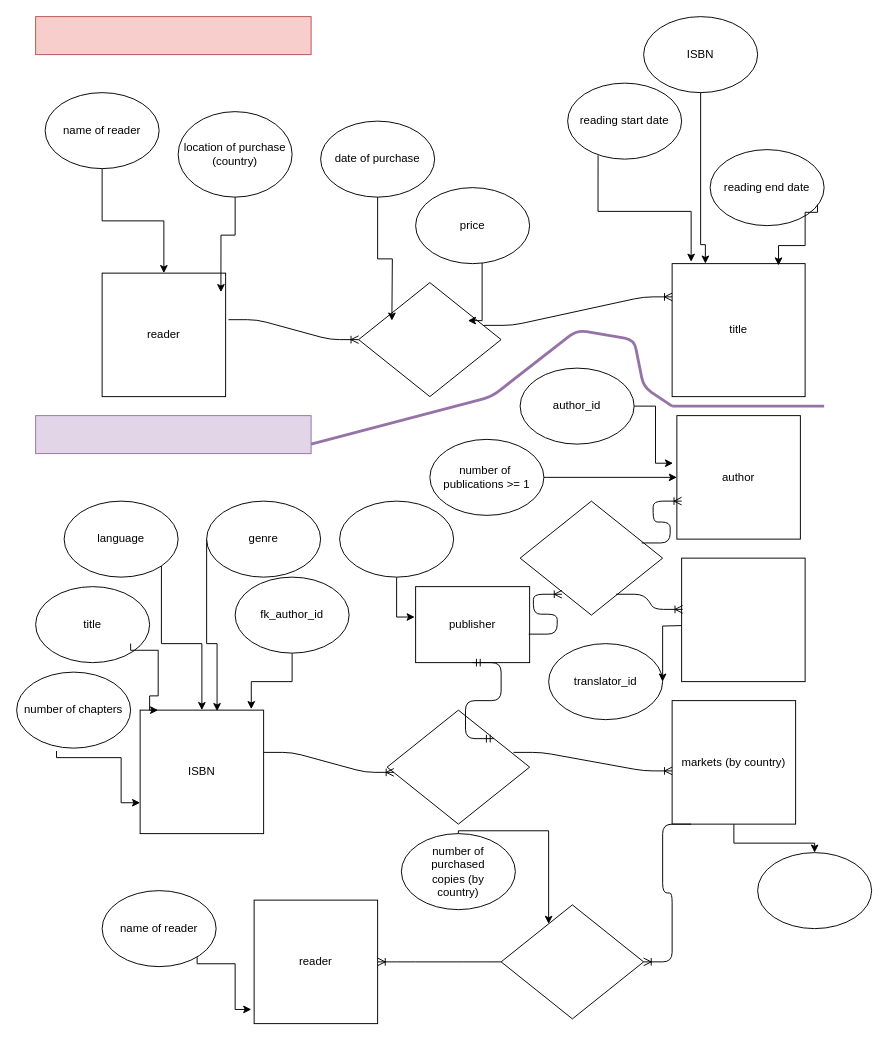
The diagram is 888 pixels wide and 1040 high, and some of its shapes have lost their labels. Here are the shapes that lost their labels. From the top down, the box of each, then its label:
(35, 16, 311, 55): ENTITY RELATIONSHIP MODEL 1
(358, 282, 501, 397): posesses
(35, 415, 311, 454): ENTITY RELATIONSHIP MODEL 2
(339, 500, 454, 577): name
(519, 500, 663, 615): contracts
(681, 557, 805, 682): translators
(386, 709, 530, 824): appears
(757, 852, 872, 929): country name
(500, 904, 644, 1019): sells
